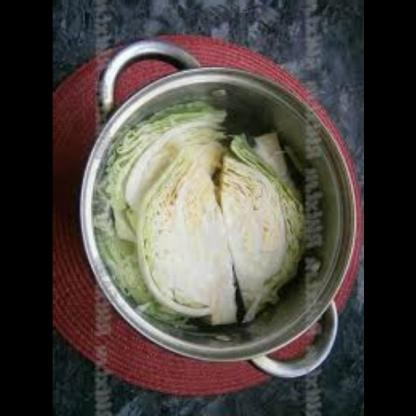cabbage: (122, 124, 242, 329), (218, 144, 310, 312)
